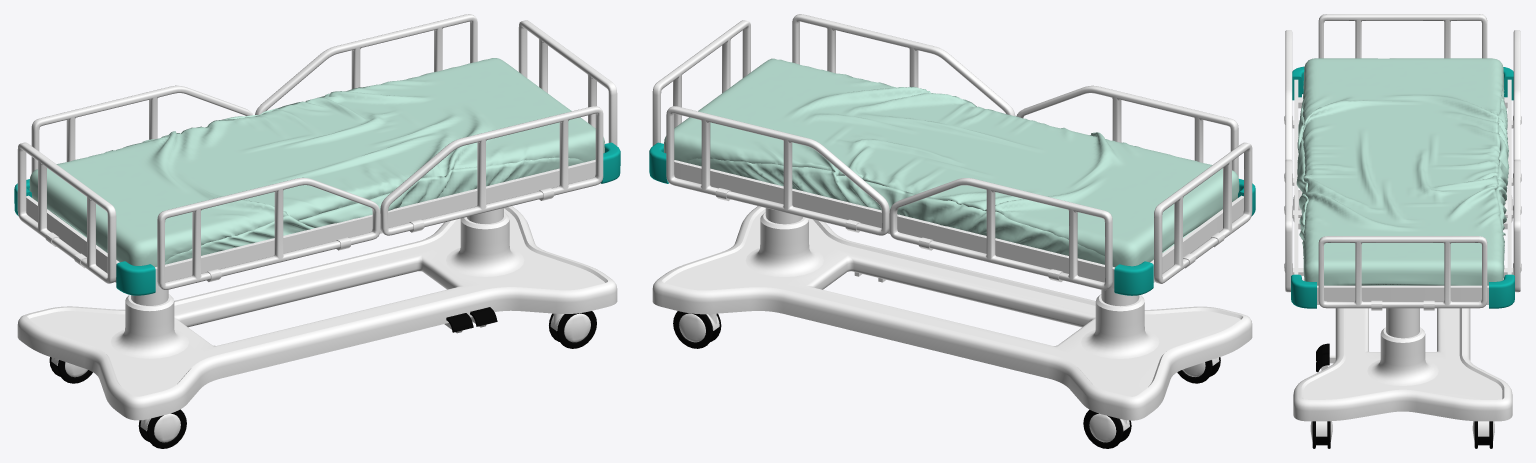
Rendered from hospital_bed (1).glb.
The picture shows the model from 3 angles, left to right: view 1: azimuth 30°, elevation 25°; view 2: azimuth 150°, elevation 25°; view 3: azimuth 270°, elevation 25°; orthographic projection. The views are drawn at different scales.
Parts seen in each view (by area): view 1: KB3D_LAB_Bed_C_ClothWhite_2, KB3D_LAB_Bed_C_PaintWhite_0, KB3D_LAB_Bed_C_PaintLightGray_5, KB3D_LAB_Bed_C_RubberA_3, KB3D_LAB_Bed_C_PaintBlue_7, KB3D_LAB_Bed_C_SteelRawA_1, KB3D_LAB_Bed_C_AluminiumWorn_6; view 2: KB3D_LAB_Bed_C_ClothWhite_2, KB3D_LAB_Bed_C_PaintWhite_0, KB3D_LAB_Bed_C_PaintLightGray_5, KB3D_LAB_Bed_C_PaintBlue_7, KB3D_LAB_Bed_C_RubberA_3, KB3D_LAB_Bed_C_SteelRawA_1, KB3D_LAB_Bed_C_AluminiumWorn_6; view 3: KB3D_LAB_Bed_C_ClothWhite_2, KB3D_LAB_Bed_C_PaintWhite_0, KB3D_LAB_Bed_C_PaintLightGray_5, KB3D_LAB_Bed_C_PaintBlue_7, KB3D_LAB_Bed_C_SteelRawA_1, KB3D_LAB_Bed_C_RubberA_3, KB3D_LAB_Bed_C_AluminiumWorn_6.
Boxes of the visible parts, box(x1,y1,x2,y2) form: KB3D_LAB_Bed_C_ClothWhite_2: box(29, 58, 604, 266); KB3D_LAB_Bed_C_PaintWhite_0: box(17, 143, 617, 442); KB3D_LAB_Bed_C_PaintLightGray_5: box(17, 14, 617, 289); KB3D_LAB_Bed_C_RubberA_3: box(49, 307, 596, 448); KB3D_LAB_Bed_C_PaintBlue_7: box(14, 142, 620, 295); KB3D_LAB_Bed_C_SteelRawA_1: box(131, 208, 503, 305); KB3D_LAB_Bed_C_AluminiumWorn_6: box(45, 188, 553, 281); KB3D_LAB_Bed_C_ClothWhite_2: box(663, 58, 1239, 267); KB3D_LAB_Bed_C_PaintWhite_0: box(652, 143, 1252, 442); KB3D_LAB_Bed_C_PaintLightGray_5: box(652, 14, 1252, 290); KB3D_LAB_Bed_C_PaintBlue_7: box(649, 142, 1255, 295); KB3D_LAB_Bed_C_RubberA_3: box(673, 311, 1220, 448); KB3D_LAB_Bed_C_SteelRawA_1: box(765, 208, 1139, 306); KB3D_LAB_Bed_C_AluminiumWorn_6: box(715, 188, 1224, 282); KB3D_LAB_Bed_C_ClothWhite_2: box(1296, 58, 1509, 285); KB3D_LAB_Bed_C_PaintWhite_0: box(1293, 79, 1512, 441); KB3D_LAB_Bed_C_PaintLightGray_5: box(1285, 14, 1520, 308); KB3D_LAB_Bed_C_PaintBlue_7: box(1291, 66, 1514, 308); KB3D_LAB_Bed_C_SteelRawA_1: box(1386, 308, 1419, 338); KB3D_LAB_Bed_C_RubberA_3: box(1312, 343, 1492, 448); KB3D_LAB_Bed_C_AluminiumWorn_6: box(1284, 115, 1521, 310).
Bounding box in the file's own units: 2.18 × 1.03 × 0.9682.
